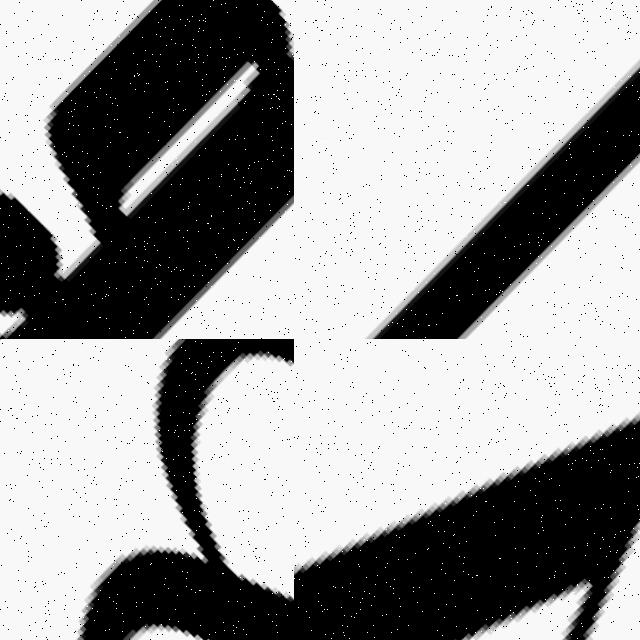8: (0, 339, 294, 640)
A: (0, 0, 294, 339)
L: (313, 0, 640, 339)
V: (294, 339, 640, 640)
